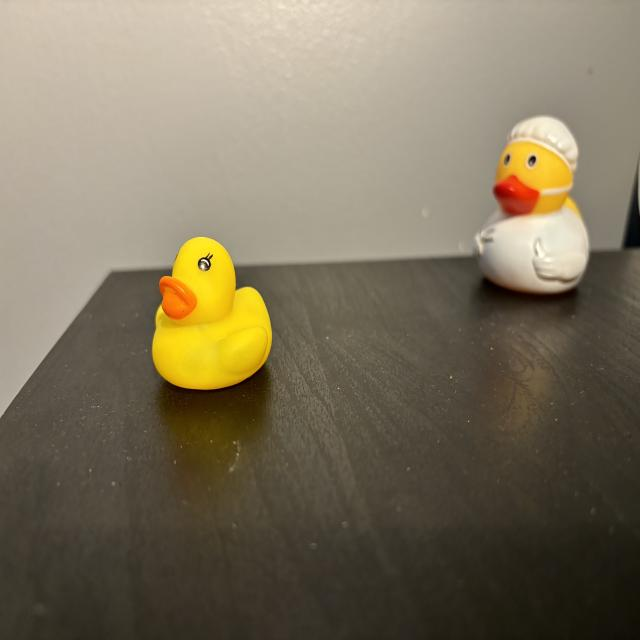duck_regular: (153, 237, 273, 391)
duck_specialty: (475, 116, 590, 295)
